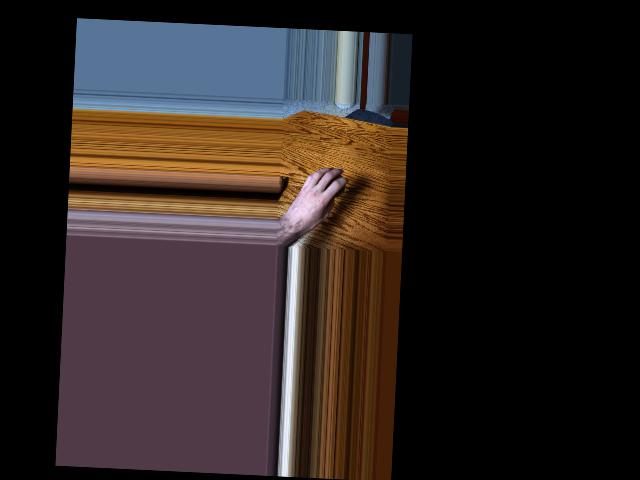onion: (320, 171, 346, 200)
